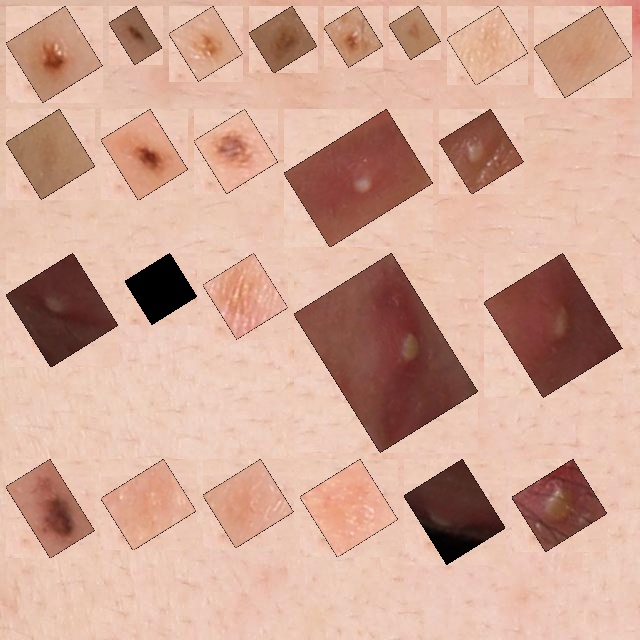melasma: (311, 470, 387, 546), (545, 17, 620, 86), (112, 470, 185, 539), (17, 120, 84, 188), (214, 470, 282, 537), (214, 264, 277, 328), (458, 17, 517, 74)
nevus: (17, 17, 91, 91), (17, 470, 84, 547), (112, 120, 177, 189), (205, 120, 267, 182), (180, 17, 232, 70), (260, 17, 306, 62), (335, 17, 372, 56), (120, 17, 151, 53)
pustule: (305, 264, 467, 441), (295, 120, 422, 236), (495, 264, 611, 386), (17, 264, 107, 356), (415, 470, 494, 553), (523, 470, 596, 540), (450, 120, 513, 183)
